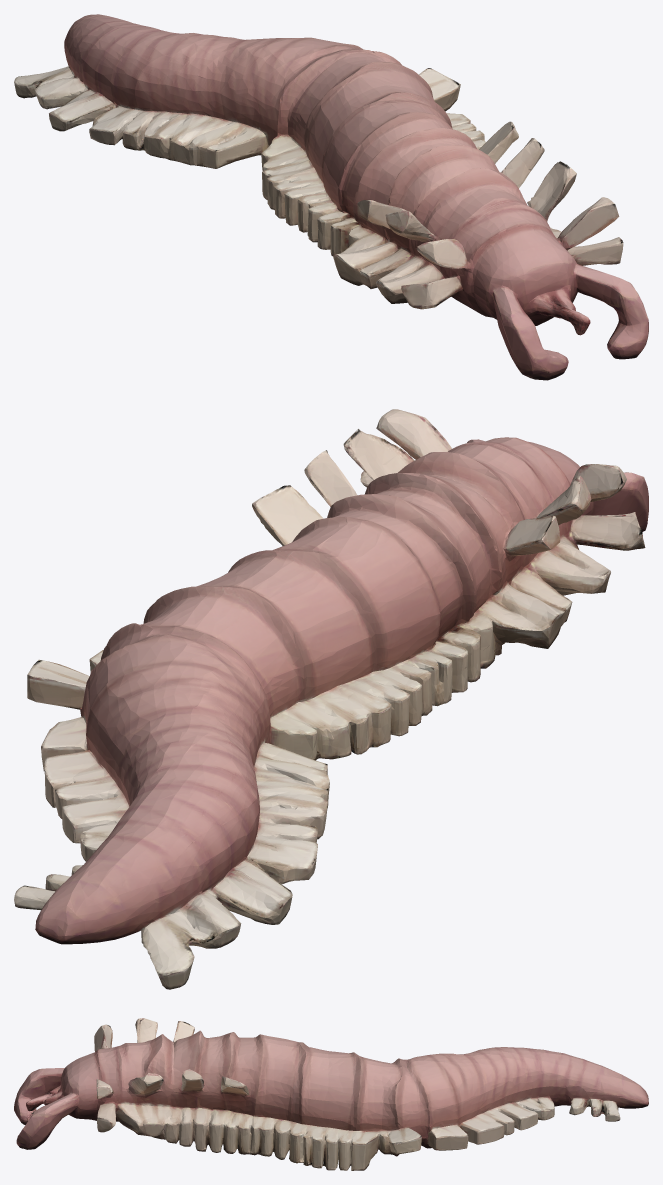
3 views of the same model, one above another, from view 1: azimuth 30°, elevation 25°; view 2: azimuth 150°, elevation 25°; view 3: azimuth 270°, elevation 25° (orthographic). The views are drawn at different scales.
Parts seen in each view (by area): view 1: world; view 2: world; view 3: world.
Boxes of the visible parts, x1,y1,x2,y2 form: world: (14, 14, 648, 380); world: (14, 409, 648, 989); world: (14, 1018, 648, 1170).
Size of the model in its own units: 0.3784 by 0.1757 by 0.9994.
1 material, 1 textured.
